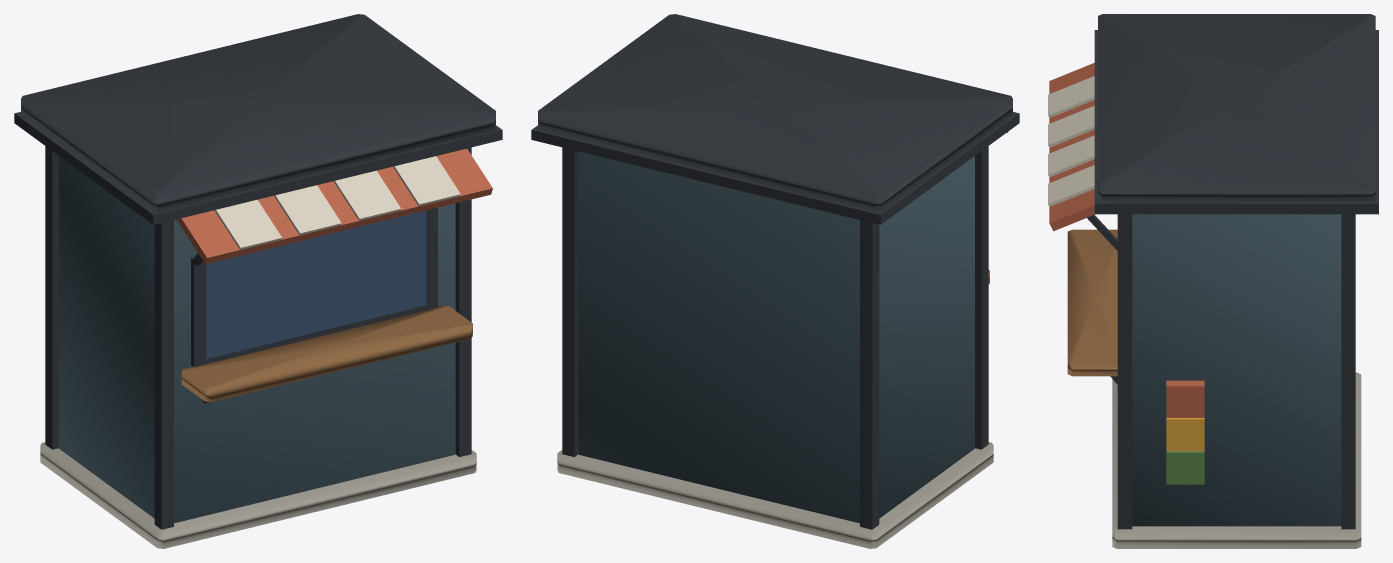
The model's file is newsstand-kiosk.glb.
3 renders of one model, left to right at view 1: azimuth 30°, elevation 25°; view 2: azimuth 150°, elevation 25°; view 3: azimuth 270°, elevation 25°, orthographic. The views are drawn at different scales.
Visible parts, largest first — view 1: Merged_city-metal-dark, Merged_prop-body, Merged_city-glass-surface, Merged_city-timber, Merged_city-curb, Merged_prop-body-light-surface, Merged_prop-accent; view 2: Merged_prop-body, Merged_city-metal-dark, Merged_city-curb; view 3: Merged_city-metal-dark, Merged_prop-body, Merged_city-curb, Merged_city-timber, Merged_prop-body-light-surface, Merged_prop-accent, Merged_city-foliage, Merged_city-warning.
Part boxes in pixels (x1=…): Merged_city-metal-dark: x1=14, y1=14, x2=502, y2=529; Merged_prop-body: x1=59, y1=156, x2=455, y2=523; Merged_city-glass-surface: x1=206, y1=210, x2=426, y2=358; Merged_city-timber: x1=181, y1=305, x2=472, y2=402; Merged_city-curb: x1=40, y1=442, x2=476, y2=548; Merged_prop-body-light-surface: x1=214, y1=156, x2=460, y2=249; Merged_prop-accent: x1=176, y1=148, x2=492, y2=264; Merged_prop-body: x1=578, y1=151, x2=974, y2=523; Merged_city-metal-dark: x1=531, y1=14, x2=1019, y2=529; Merged_city-curb: x1=557, y1=442, x2=993, y2=548; Merged_city-metal-dark: x1=1087, y1=14, x2=1378, y2=529; Merged_prop-body: x1=1132, y1=214, x2=1341, y2=526; Merged_city-curb: x1=1112, y1=372, x2=1361, y2=548; Merged_city-timber: x1=1067, y1=229, x2=1117, y2=376; Merged_prop-body-light-surface: x1=1048, y1=76, x2=1094, y2=206; Merged_prop-accent: x1=1049, y1=63, x2=1204, y2=417; Merged_city-foliage: x1=1166, y1=451, x2=1204, y2=484; Merged_city-warning: x1=1166, y1=418, x2=1204, y2=451.
Size of what is drawn, in the model's own units: 2.58 by 2.56 by 2.07.
